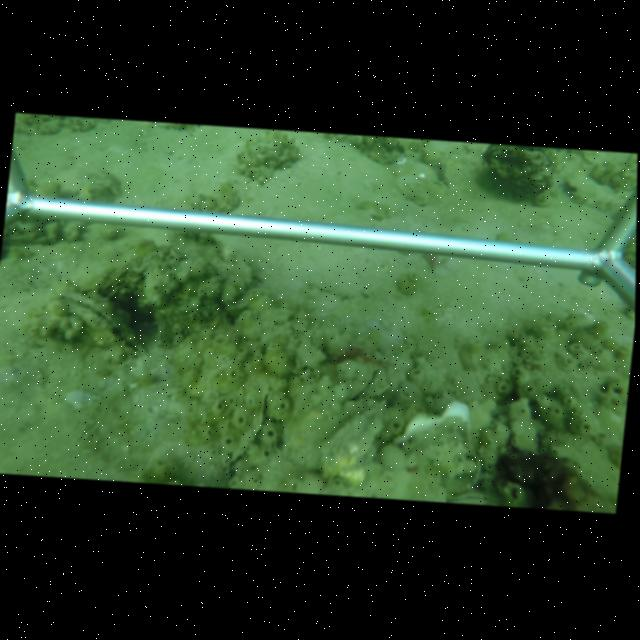Oyster-Closed: (32, 291, 147, 359), (217, 374, 275, 473), (438, 153, 459, 190), (156, 317, 172, 350)
Oyster-Indeterminate: (395, 176, 437, 206)
